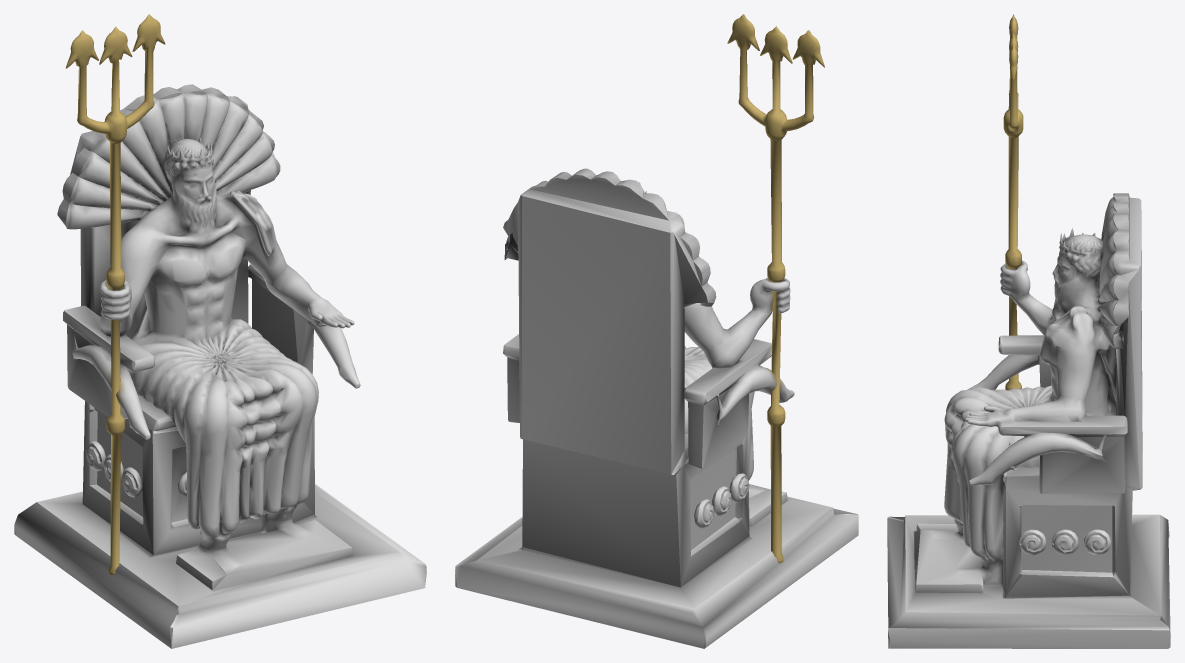
Rendered from poseidon_seated.glb.
3 views of the same model, side by side, from view 1: azimuth 30°, elevation 25°; view 2: azimuth 150°, elevation 25°; view 3: azimuth 270°, elevation 25° (orthographic). The views are drawn at different scales.
Visible parts, largest first — view 1: poseidon_seated; view 2: poseidon_seated; view 3: poseidon_seated.
Boxes of the visible parts, x1,y1,x2,y2 form: poseidon_seated: [14, 14, 426, 648]; poseidon_seated: [455, 14, 858, 648]; poseidon_seated: [887, 14, 1170, 648].
Bounding box in the file's own units: 5.9 × 11.08 × 5.52.
